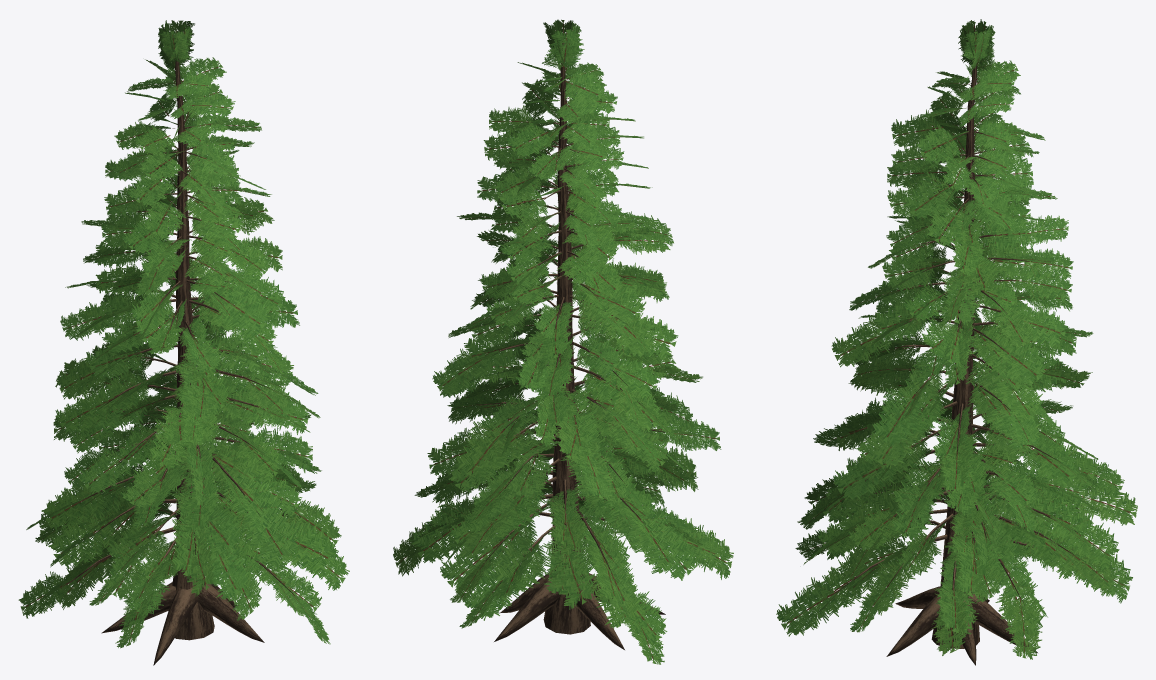
Rendered from tree-conifer-b.glb.
The picture shows the model from 3 angles, left to right: view 1: azimuth 30°, elevation 25°; view 2: azimuth 150°, elevation 25°; view 3: azimuth 270°, elevation 25°; orthographic projection. The views are drawn at different scales.
Visible parts, largest first — view 1: Tree_Conifer_B; view 2: Tree_Conifer_B; view 3: Tree_Conifer_B.
Part boxes in pixels (left/top/right/bottom): Tree_Conifer_B: left=18, top=20, right=349, bottom=665; Tree_Conifer_B: left=393, top=19, right=733, bottom=664; Tree_Conifer_B: left=776, top=19, right=1137, bottom=665.
Size of the model in its own units: 5.72 by 10.89 by 6.03.
2 materials, 2 textured.
